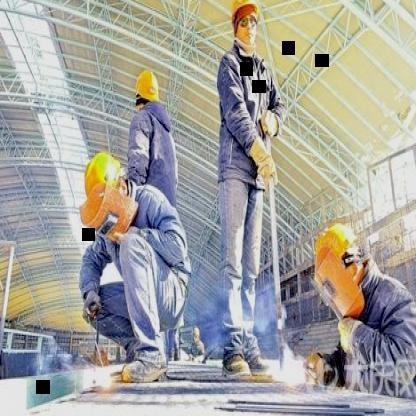helmet: (79, 148, 128, 226), (314, 222, 358, 282), (227, 0, 265, 56), (132, 66, 160, 116)
